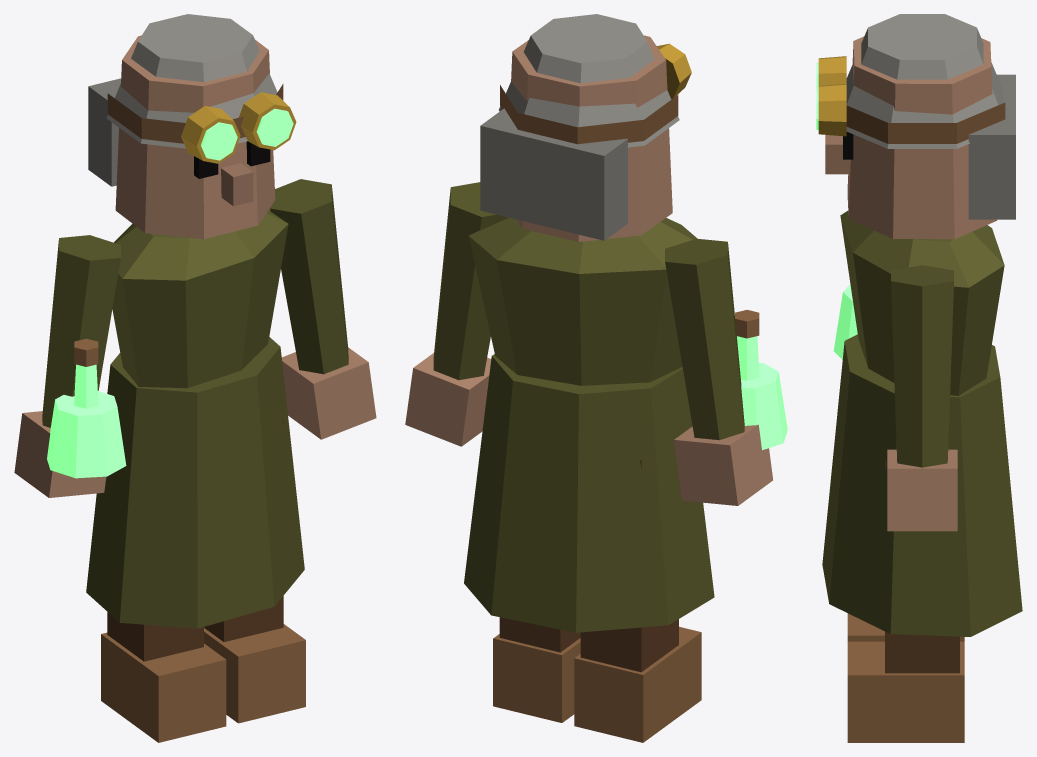
Rendered from alchemist.glb.
3 renders of one model, left to right at view 1: azimuth 30°, elevation 25°; view 2: azimuth 150°, elevation 25°; view 3: azimuth 270°, elevation 25°, orthographic.
Parts seen in each view (by area): view 1: alchemist_torso, alchemist_head, alchemist_arm_l, alchemist_leg_r, alchemist_arm_r, alchemist_leg_l, alchemist_flask; view 2: alchemist_torso, alchemist_head, alchemist_arm_r, alchemist_arm_l, alchemist_leg_r, alchemist_leg_l, alchemist_flask; view 3: alchemist_torso, alchemist_head, alchemist_arm_l, alchemist_leg_l, alchemist_flask, alchemist_leg_r.
Boxes of the visible parts, x1,y1,x2,y2 form: alchemist_torso: (86, 208, 304, 628); alchemist_head: (88, 14, 296, 239); alchemist_arm_l: (270, 179, 376, 439); alchemist_leg_r: (101, 612, 226, 742); alchemist_arm_r: (14, 235, 120, 497); alchemist_leg_l: (204, 418, 305, 723); alchemist_flask: (47, 338, 126, 478); alchemist_torso: (464, 217, 714, 632); alchemist_head: (480, 14, 691, 241); alchemist_arm_r: (665, 238, 772, 505); alchemist_arm_l: (405, 182, 507, 446); alchemist_leg_r: (574, 459, 701, 742); alchemist_leg_l: (493, 617, 580, 722); alchemist_flask: (735, 310, 787, 450); alchemist_torso: (822, 211, 1022, 636); alchemist_head: (816, 14, 1015, 239); alchemist_arm_l: (887, 265, 957, 531); alchemist_leg_l: (847, 461, 964, 742); alchemist_flask: (833, 284, 857, 359); alchemist_leg_r: (847, 613, 964, 641).
Size of the model in its own units: 0.8152 by 1.55 by 0.4323.
